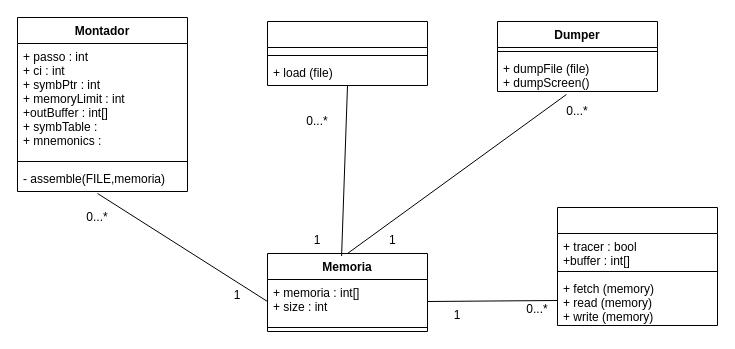
This 735x349 diagram has some shape labels left out. Each missing label, with the box of its shape:
Loader: (266, 20, 428, 86)
MotorDeEventos: (556, 206, 718, 326)
